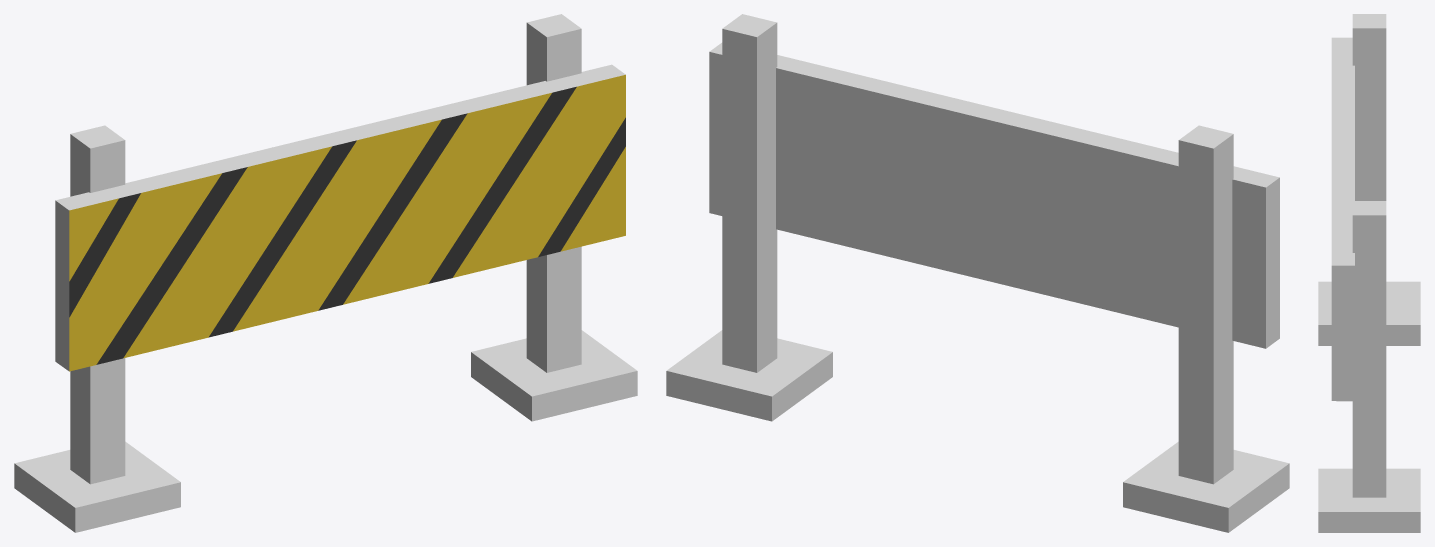
Rendered from roadblock001.fbx.
3 renders of one model, left to right at view 1: azimuth 30°, elevation 25°; view 2: azimuth 150°, elevation 25°; view 3: azimuth 270°, elevation 25°, orthographic. The views are drawn at different scales.
Visible parts, largest first — view 1: polySurface1999; view 2: polySurface1999; view 3: polySurface1999.
Part boxes in pixels (left/top/right/bottom): polySurface1999: left=14, top=14, right=637, bottom=532; polySurface1999: left=666, top=14, right=1289, bottom=532; polySurface1999: left=1318, top=14, right=1420, bottom=532.
Bounding box in the file's own units: 134 × 82.39 × 25.25.
